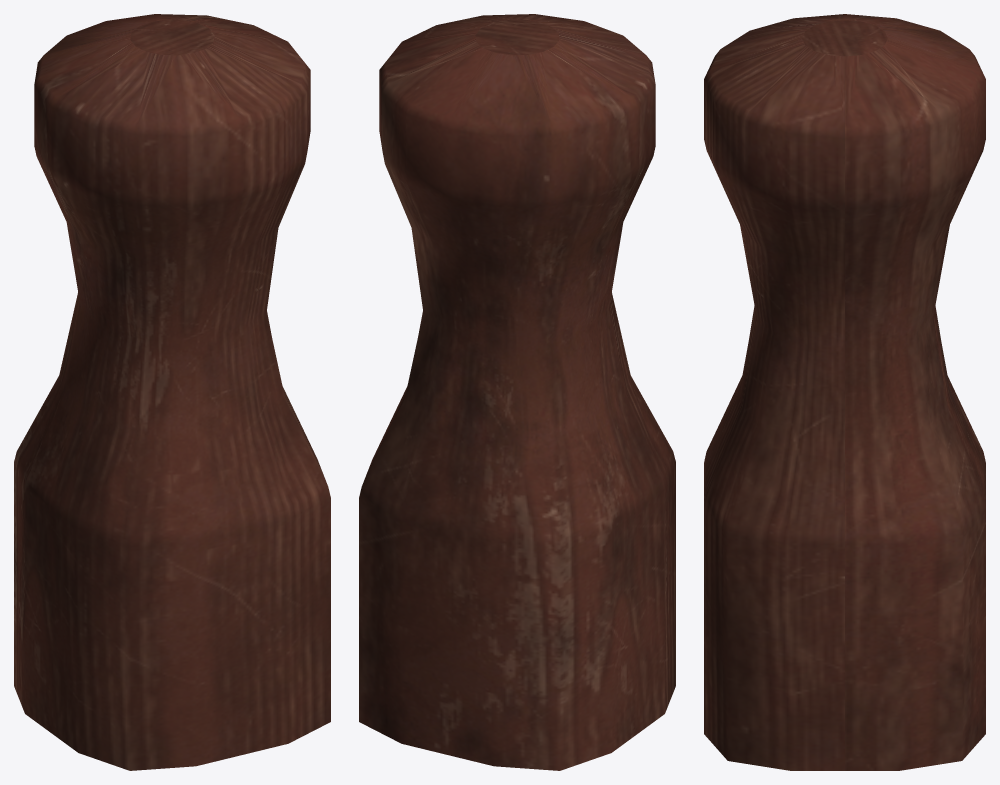
Rendered from SM_Bollard.fbx.
3 views of the same model, side by side, from view 1: azimuth 30°, elevation 25°; view 2: azimuth 150°, elevation 25°; view 3: azimuth 270°, elevation 25° (orthographic).
Parts seen in each view (by area): view 1: SM_Bollard; view 2: SM_Bollard; view 3: SM_Bollard.
Boxes of the visible parts, <box> form: SM_Bollard: <box>14,14,330,770</box>; SM_Bollard: <box>359,14,675,770</box>; SM_Bollard: <box>704,14,985,770</box>.
Bounding box in the file's own units: 22 × 58 × 22.
